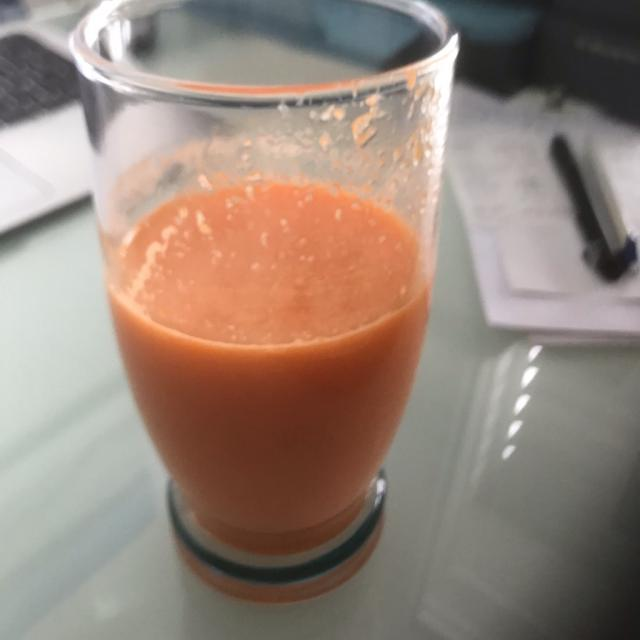juice-multifruit: (114, 184, 424, 540)
